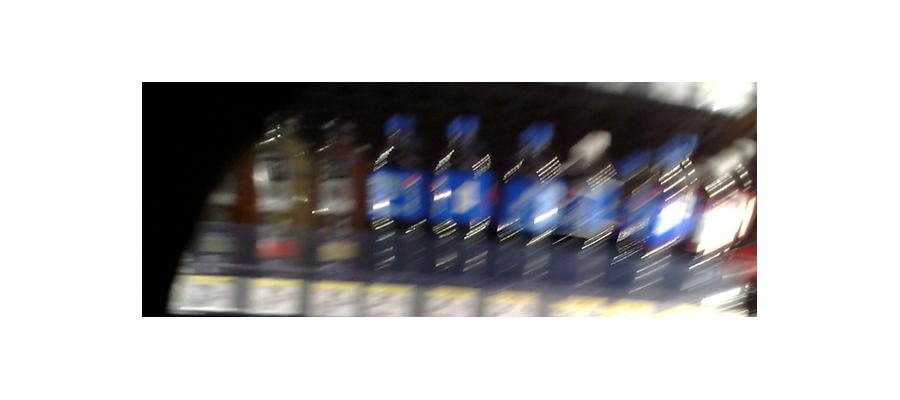bottle: (251, 98, 314, 280), (621, 142, 691, 297), (497, 124, 563, 282), (370, 109, 428, 281), (438, 115, 493, 278), (319, 113, 361, 294)
